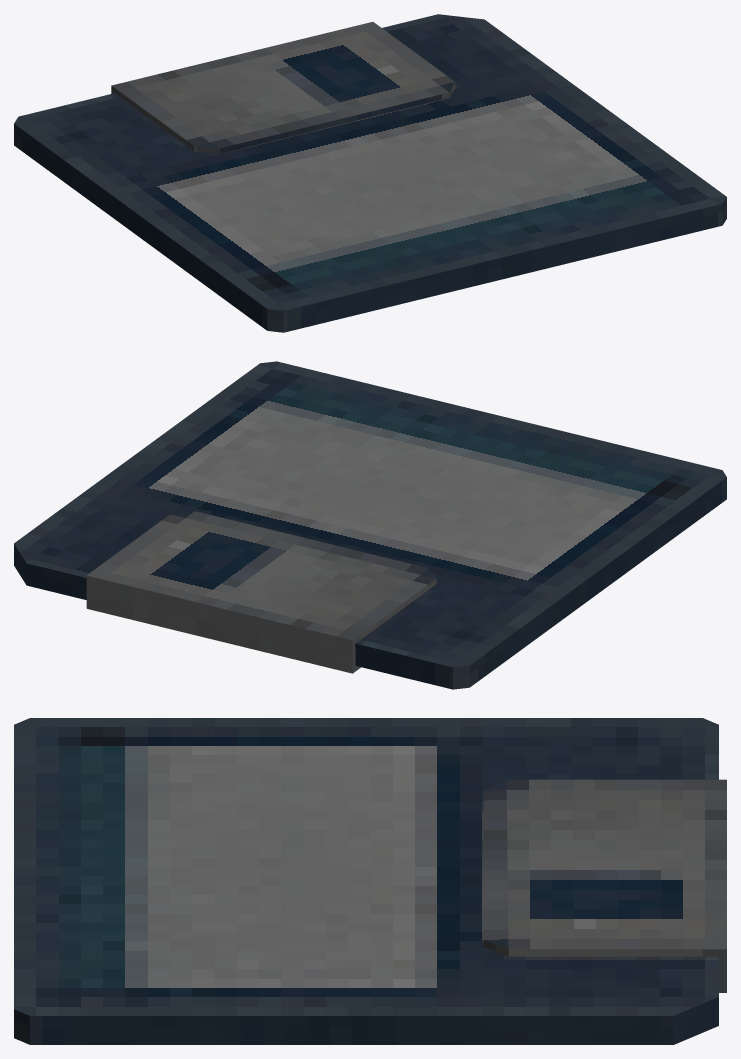
Rendered from floppy_disc_1.obj.
The picture shows the model from 3 angles, top to bottom: view 1: azimuth 30°, elevation 25°; view 2: azimuth 150°, elevation 25°; view 3: azimuth 270°, elevation 25°; orthographic projection. The views are drawn at different scales.
Visible parts, largest first — view 1: floppy_disc_1; view 2: floppy_disc_1; view 3: floppy_disc_1.
Part boxes in pixels (bbox=[...]): floppy_disc_1: bbox=[14, 14, 726, 332]; floppy_disc_1: bbox=[14, 361, 726, 689]; floppy_disc_1: bbox=[14, 718, 726, 1044].
Bounding box in the file's own units: 0.1584 × 0.0108 × 0.1602.
